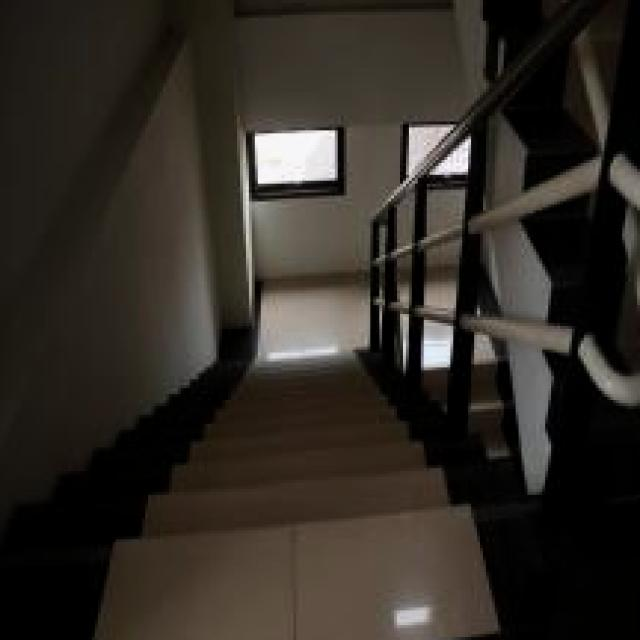downstair: (99, 318, 445, 640)
